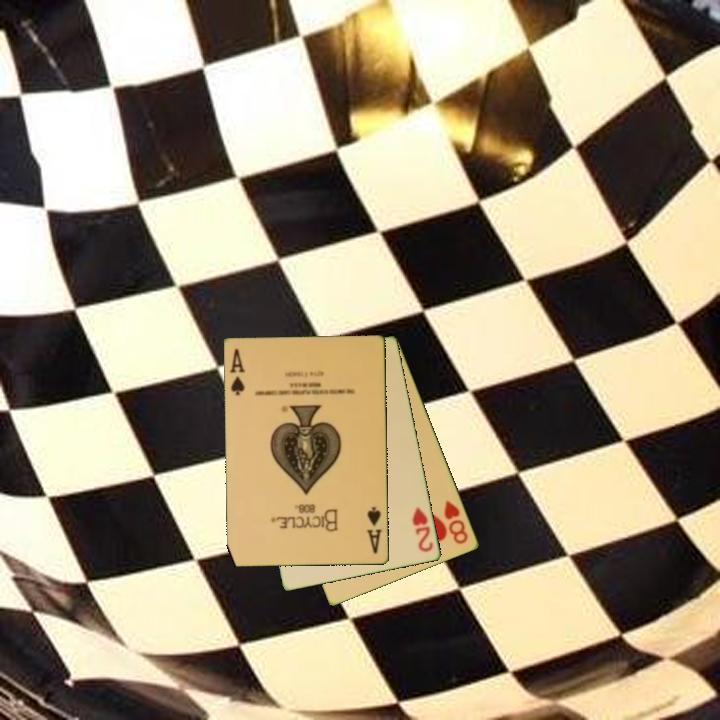2h: (409, 504, 436, 555)
8h: (441, 497, 471, 547)
As: (227, 345, 248, 398), (364, 504, 385, 556)
